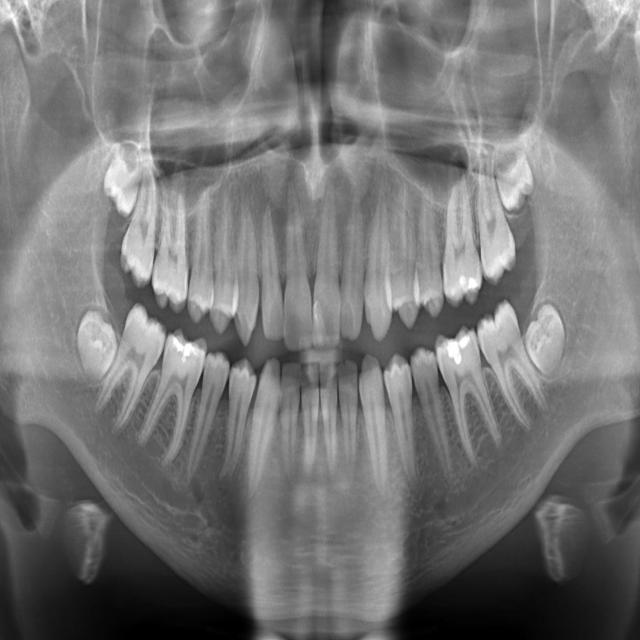CompositeResinRestoration: (446, 325, 472, 366), (169, 333, 199, 368), (458, 271, 481, 300), (312, 301, 322, 334)
DentalCaries: (493, 317, 507, 352)
